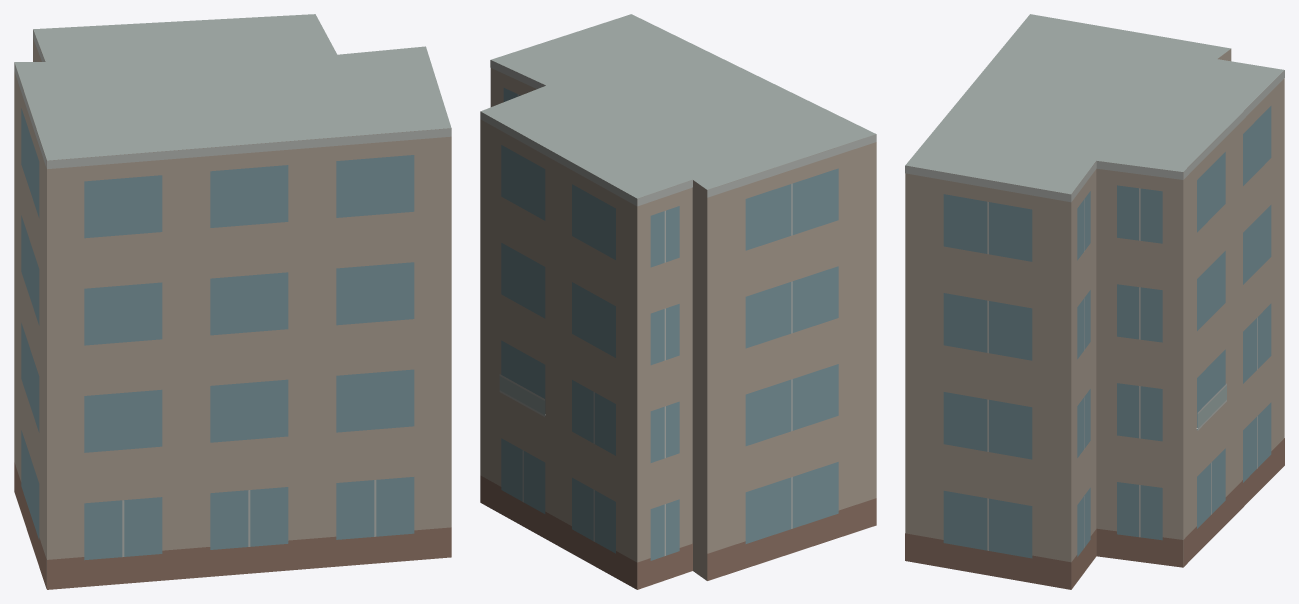
The model's file is survey-upis-32509067.glb.
3 views of the same model, side by side, from view 1: azimuth 30°, elevation 25°; view 2: azimuth 150°, elevation 25°; view 3: azimuth 270°, elevation 25° (orthographic). The views are drawn at different scales.
Parts seen in each view (by area): view 1: survey-upis-32509067.tmp; view 2: survey-upis-32509067.tmp; view 3: survey-upis-32509067.tmp.
Boxes of the visible parts, bbox=[...] form: survey-upis-32509067.tmp: bbox=[14, 14, 451, 589]; survey-upis-32509067.tmp: bbox=[480, 14, 876, 589]; survey-upis-32509067.tmp: bbox=[905, 14, 1284, 589].
Bounding box in the file's own units: 11.95 × 12.2 × 10.62.
